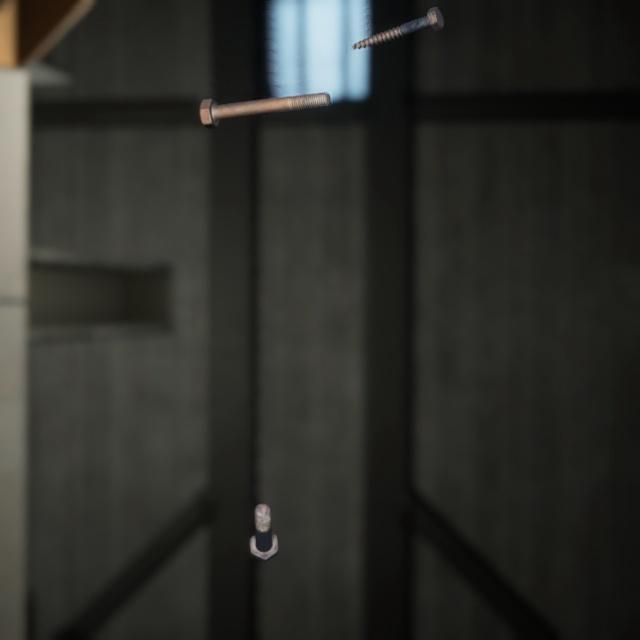bolt: (195, 74, 335, 120), (346, 0, 448, 46), (245, 475, 283, 544)
